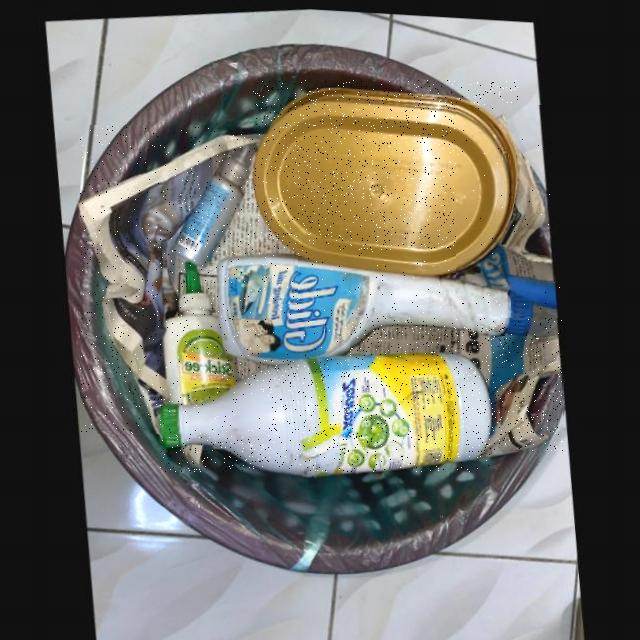paper: (81, 125, 266, 434), (351, 318, 563, 451), (456, 105, 555, 282), (201, 171, 298, 304)
plastic: (254, 80, 518, 270), (161, 347, 495, 472), (219, 251, 560, 360), (164, 257, 238, 401), (175, 139, 259, 264)
